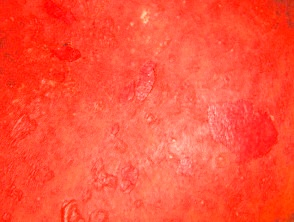SJS-TEN: (58, 41, 294, 222), (0, 27, 98, 158)
